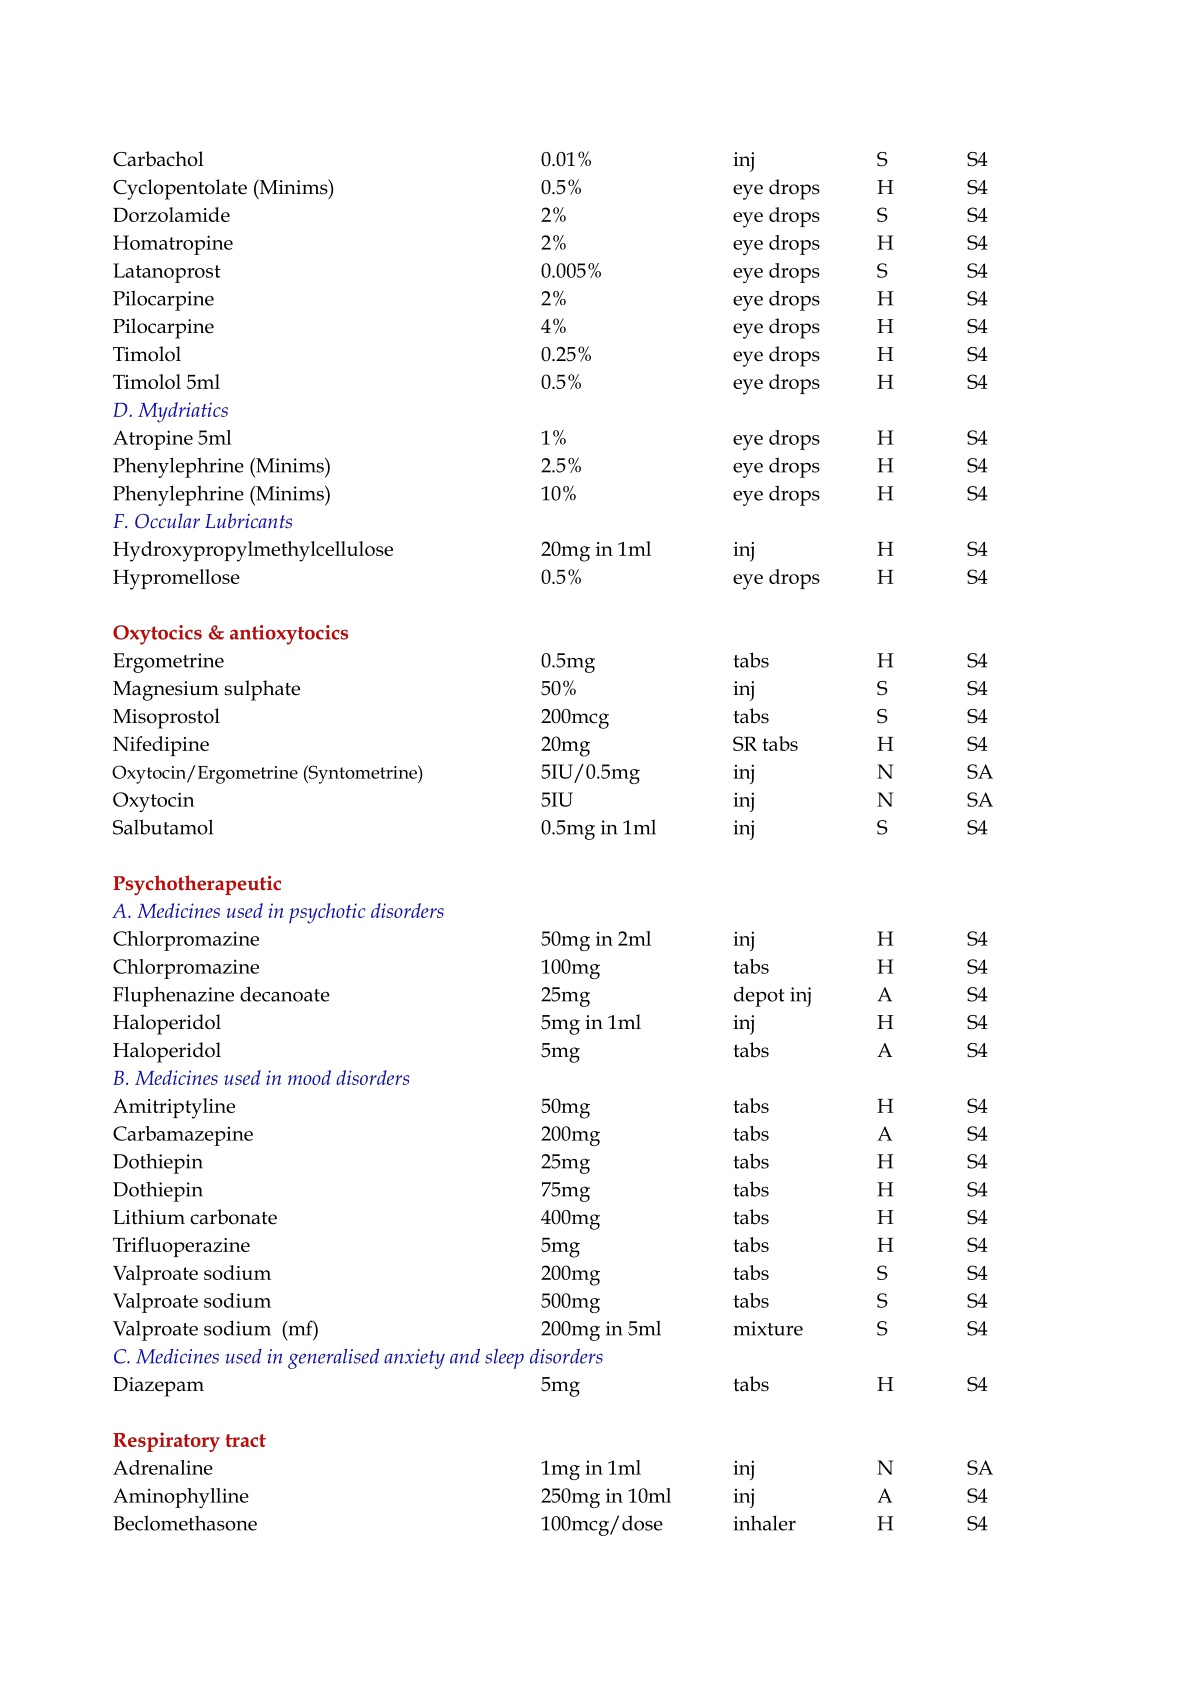nolines: (112, 903, 989, 1398), (109, 151, 990, 588), (112, 651, 994, 836), (112, 1457, 993, 1532)
